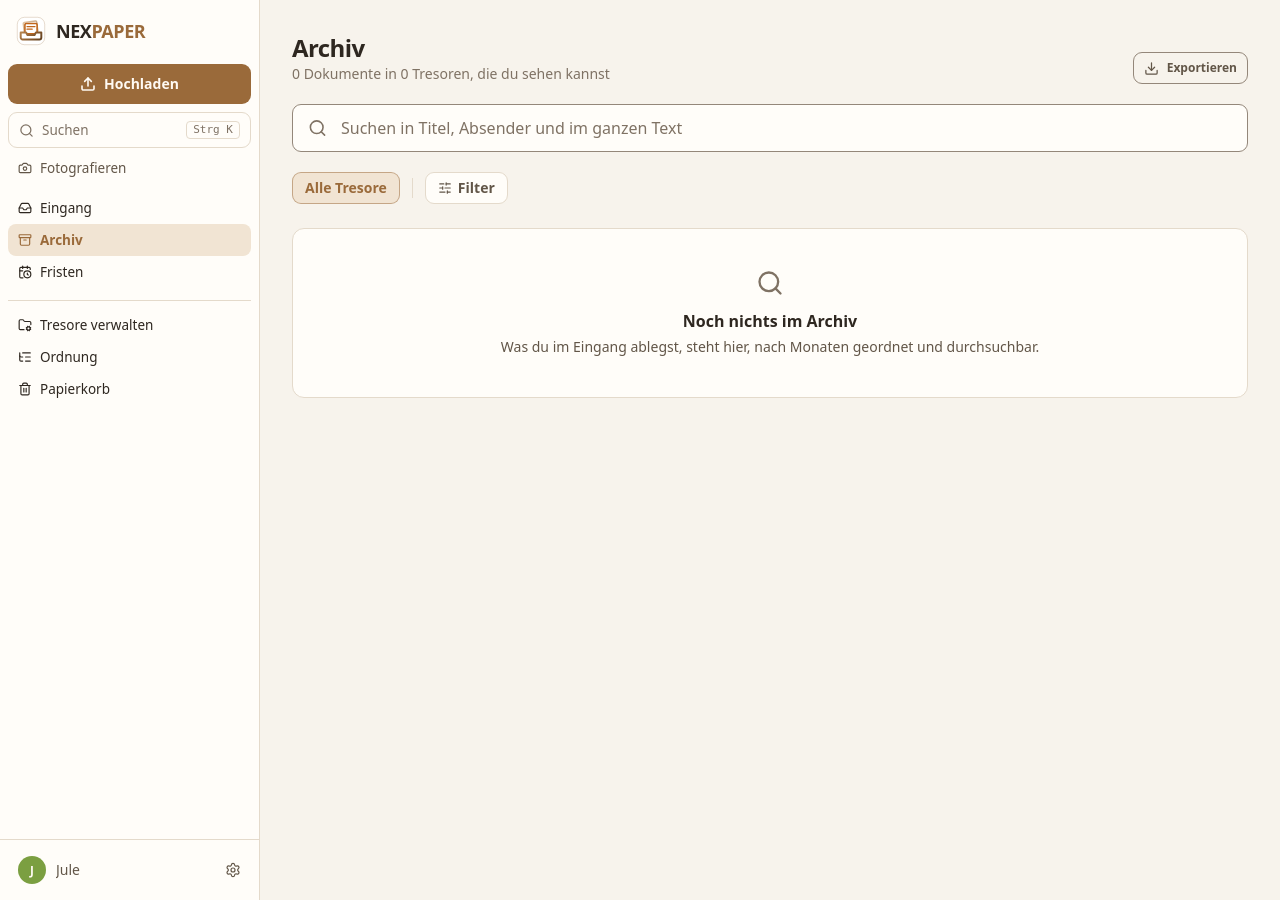
Test: after the sign-in › has at its foot the account with the gear, the way into the settings, as nexnotes
Click the link with test id "sidebar-account": (32, 870) [8,848,251,892]
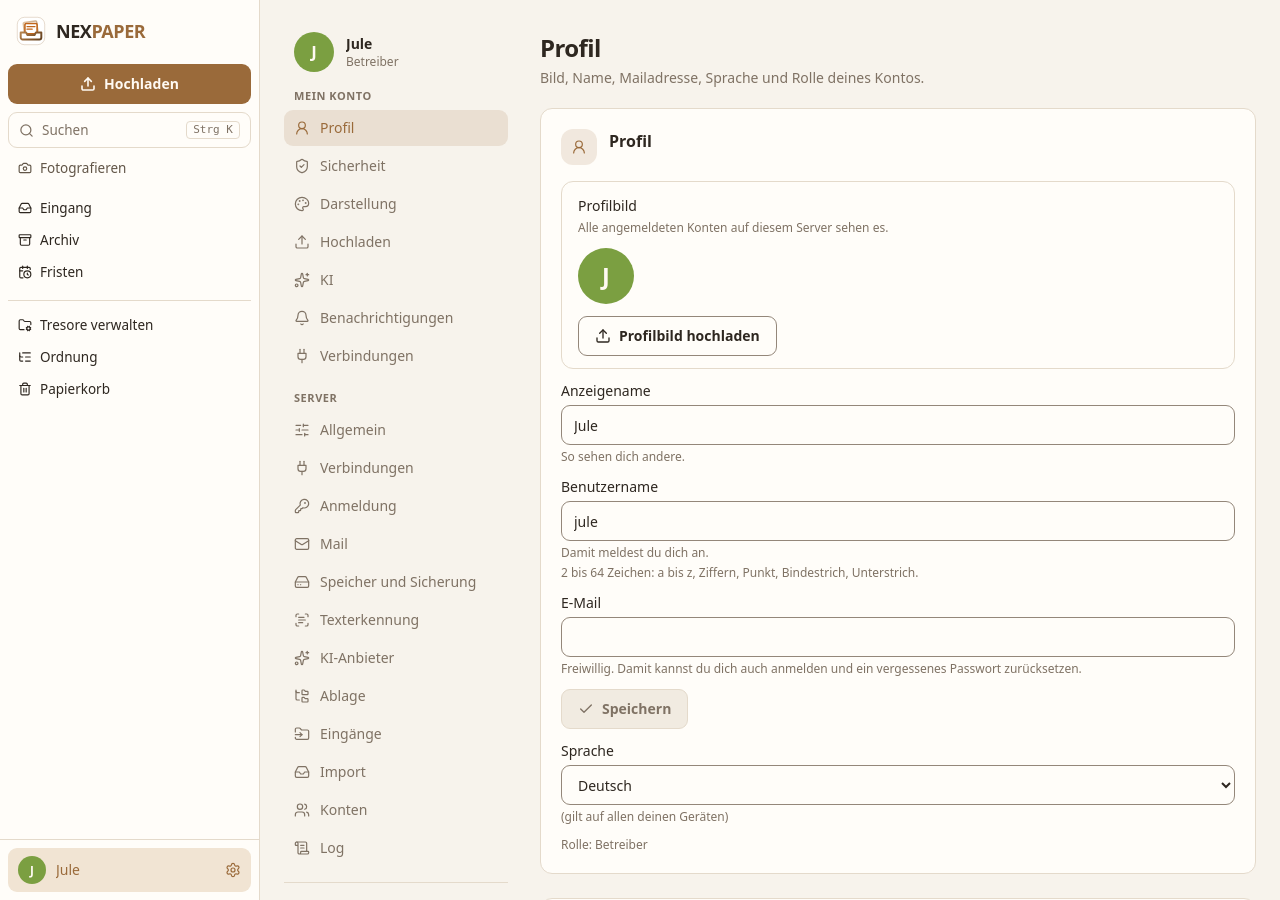
Result: the 1st heading "Profil" is shown at [540,31,601,64]
